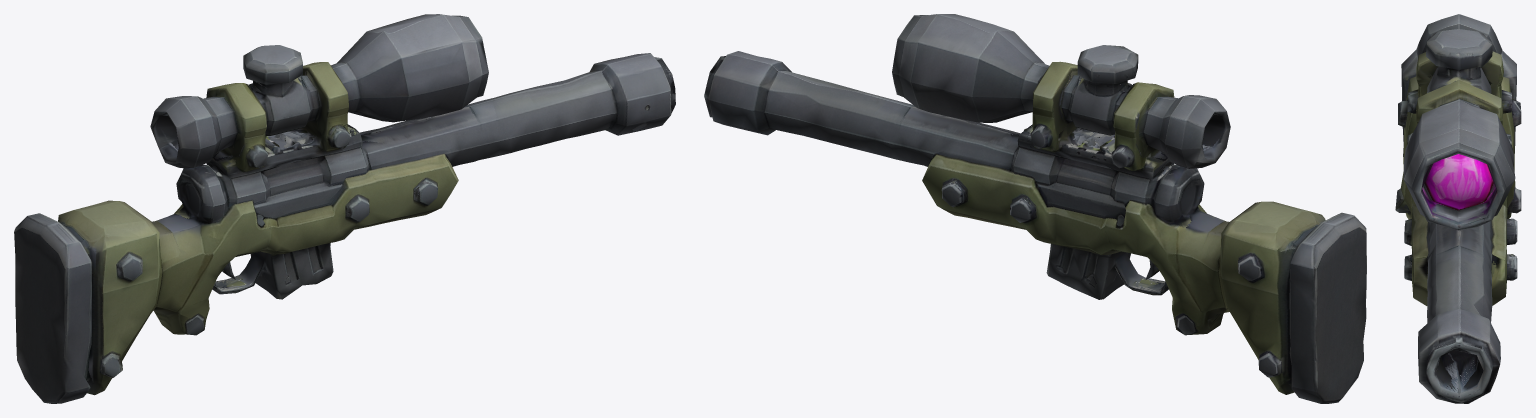
The model's file is Sniper.fbx.
The picture shows the model from 3 angles, left to right: view 1: azimuth 30°, elevation 25°; view 2: azimuth 150°, elevation 25°; view 3: azimuth 270°, elevation 25°; orthographic projection. The views are drawn at different scales.
Visible parts, largest first — view 1: texture_mapping; view 2: texture_mapping; view 3: texture_mapping.
Part boxes in pixels (bbox=[...]): texture_mapping: bbox=[14, 14, 675, 403]; texture_mapping: bbox=[704, 14, 1366, 403]; texture_mapping: bbox=[1395, 14, 1521, 403].
Size of the model in its own units: 1 by 0.1656 by 0.4491.
Materials: 1 (1 with a texture image).
